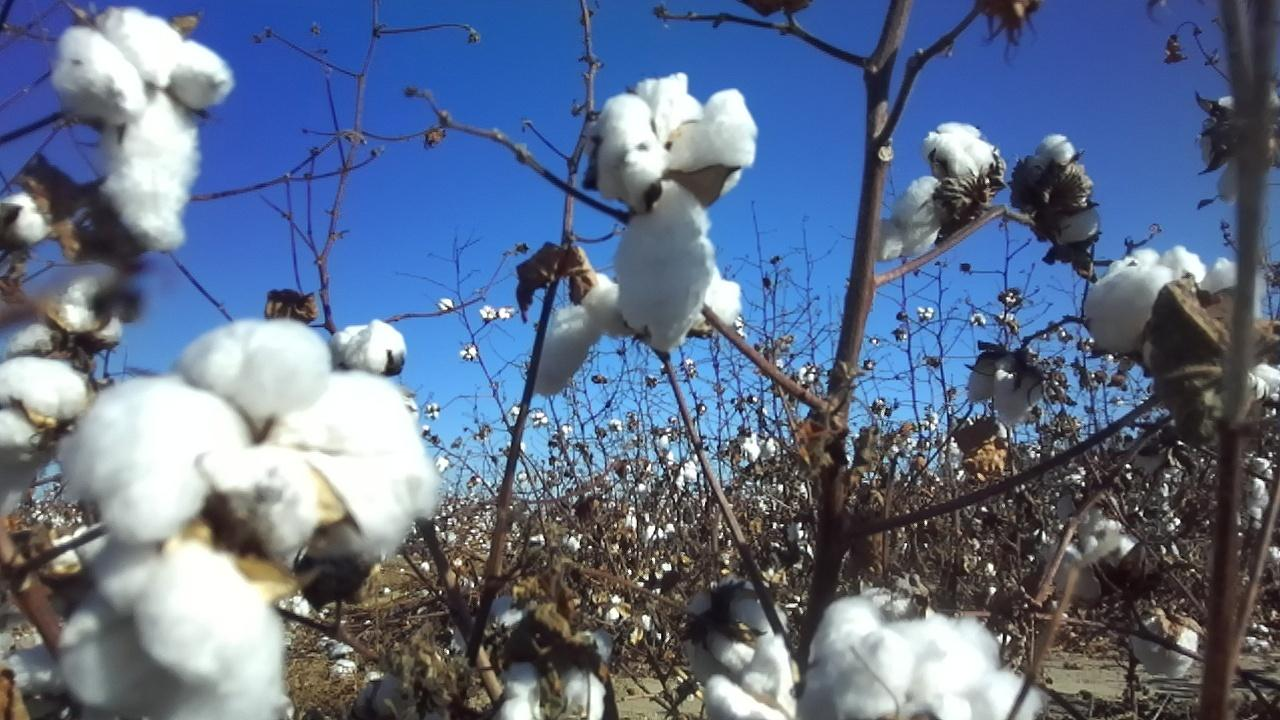cotton_ready: (60, 322, 442, 560), (51, 10, 237, 250), (599, 74, 753, 343), (59, 557, 285, 720), (799, 600, 1040, 720), (1081, 249, 1245, 359), (897, 122, 1009, 266), (0, 257, 124, 362), (1010, 134, 1102, 253), (532, 273, 620, 395), (0, 355, 85, 470), (1197, 94, 1280, 202), (690, 587, 785, 680), (705, 630, 799, 720), (500, 662, 605, 720), (968, 358, 1042, 427), (332, 319, 407, 377), (0, 192, 50, 242)
